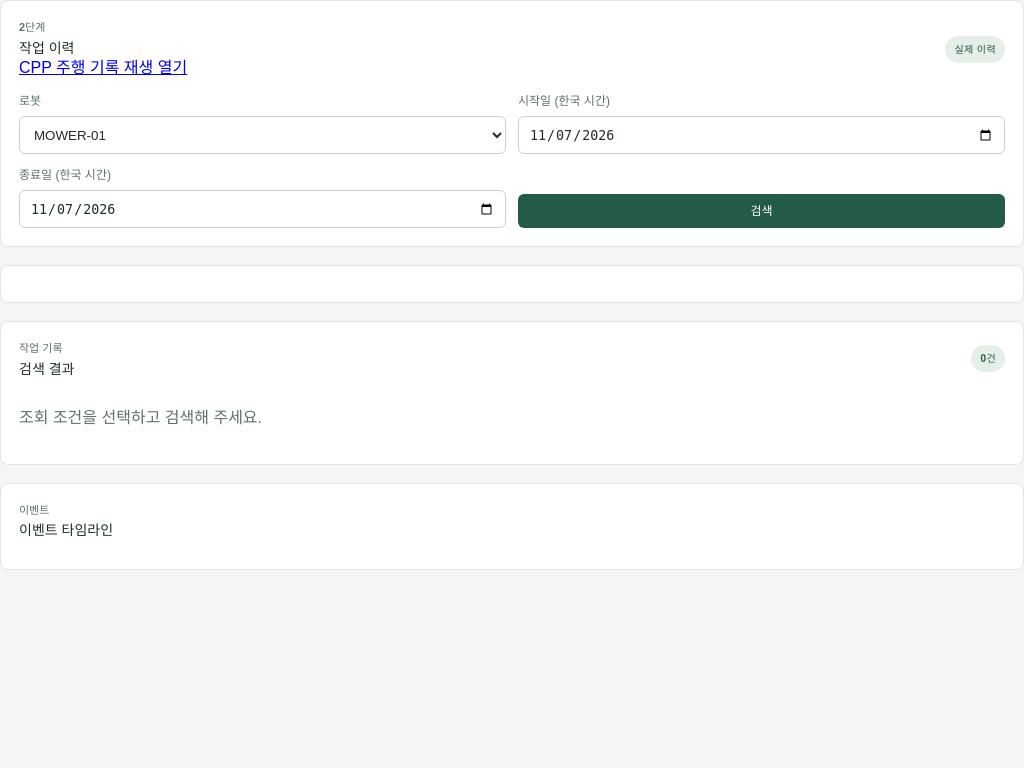
Test: 조회 후 작업 신호가 30초 경계를 넘으면 종료 확인 불가로 표시한다
Step 1. Click the button "검색" → (762, 211), box x1=518 y1=194 x2=1005 y2=228
Wait 1000 ms
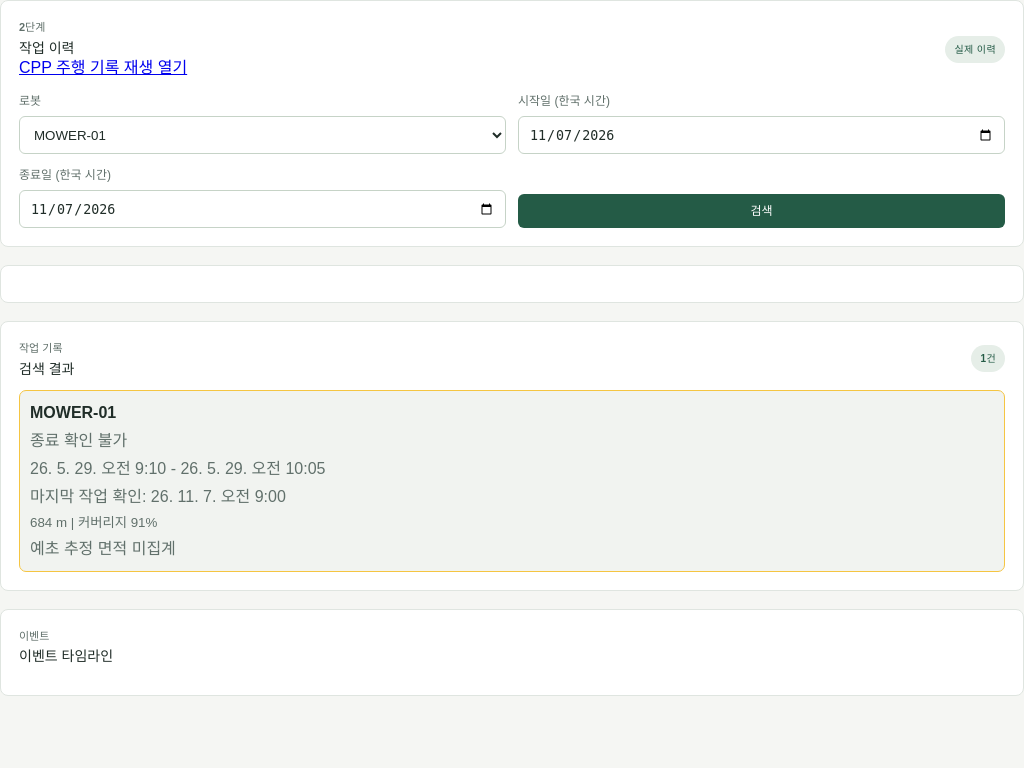
Check: the text "종료 확인 불가" is shown, box x1=30 y1=432 x2=127 y2=449
